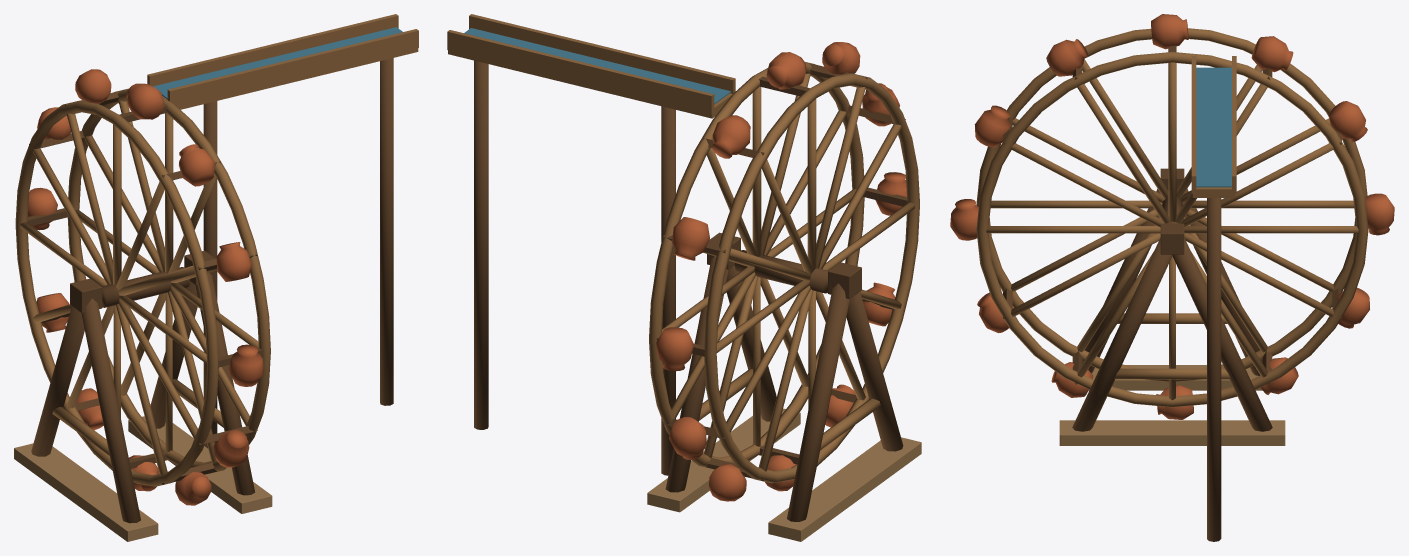
File: schoepfrad.glb
The picture shows the model from 3 angles, left to right: view 1: azimuth 30°, elevation 25°; view 2: azimuth 150°, elevation 25°; view 3: azimuth 270°, elevation 25°; orthographic projection. The views are drawn at different scales.
Visible parts, largest first — view 1: Torus; view 2: Torus; view 3: Torus.
Boxes of the visible parts, x1=… form: Torus: x1=14, y1=14, x2=418, y2=541; Torus: x1=447, y1=14, x2=921, y2=541; Torus: x1=950, y1=14, x2=1394, y2=541.
Bounding box in the file's own units: 3.45 × 3.74 × 3.74.
